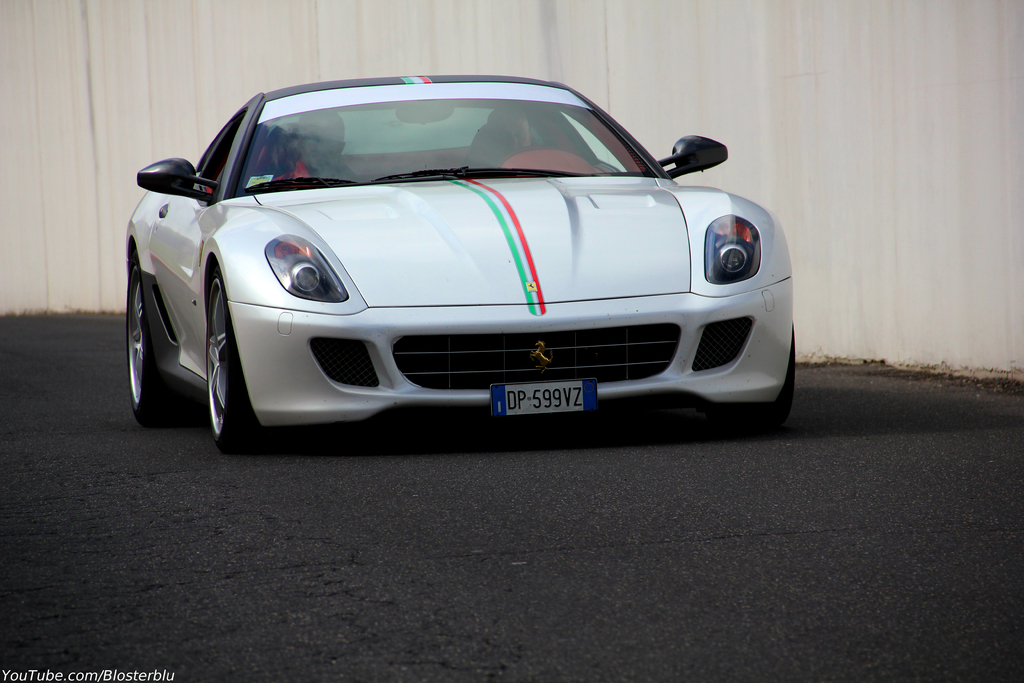Car: (113, 64, 792, 445)
